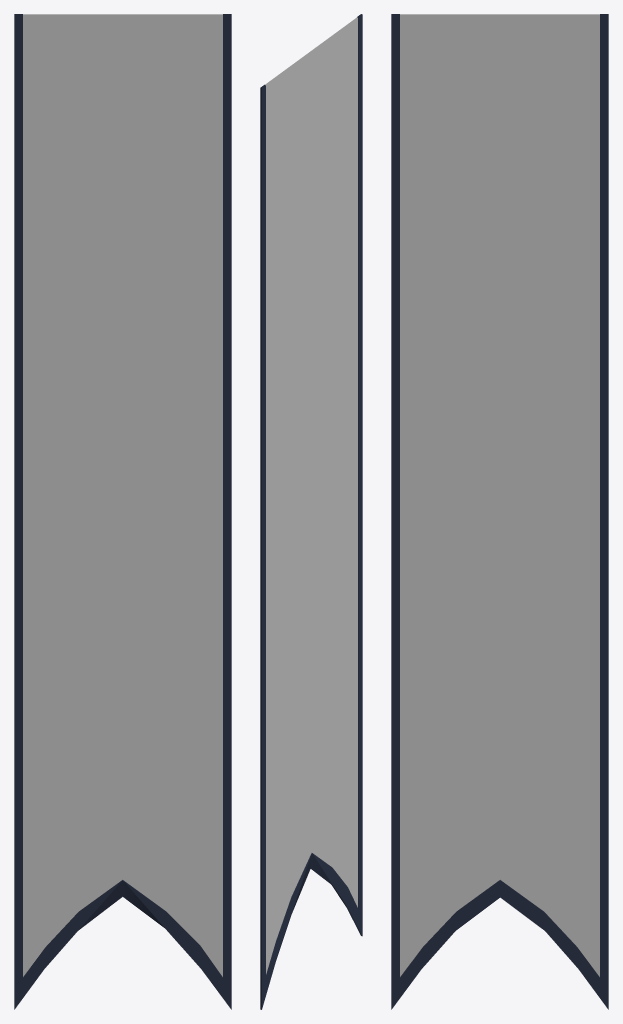
The model's file is WallBanner01b.fbx.
3 renders of one model, left to right at view 1: azimuth 90°, elevation 25°; view 2: azimuth 150°, elevation 25°; view 3: azimuth 270°, elevation 25°, orthographic. The views are drawn at different scales.
Parts seen in each view (by area): view 1: WallBanner_Ling; view 2: WallBanner_Ling; view 3: WallBanner_Ling.
Boxes of the visible parts, <box> form: WallBanner_Ling: <box>14,14,231,1009</box>; WallBanner_Ling: <box>260,14,362,1009</box>; WallBanner_Ling: <box>391,14,608,1009</box>.
Bounding box in the file's own units: 2.26 × 1382 × 273.
